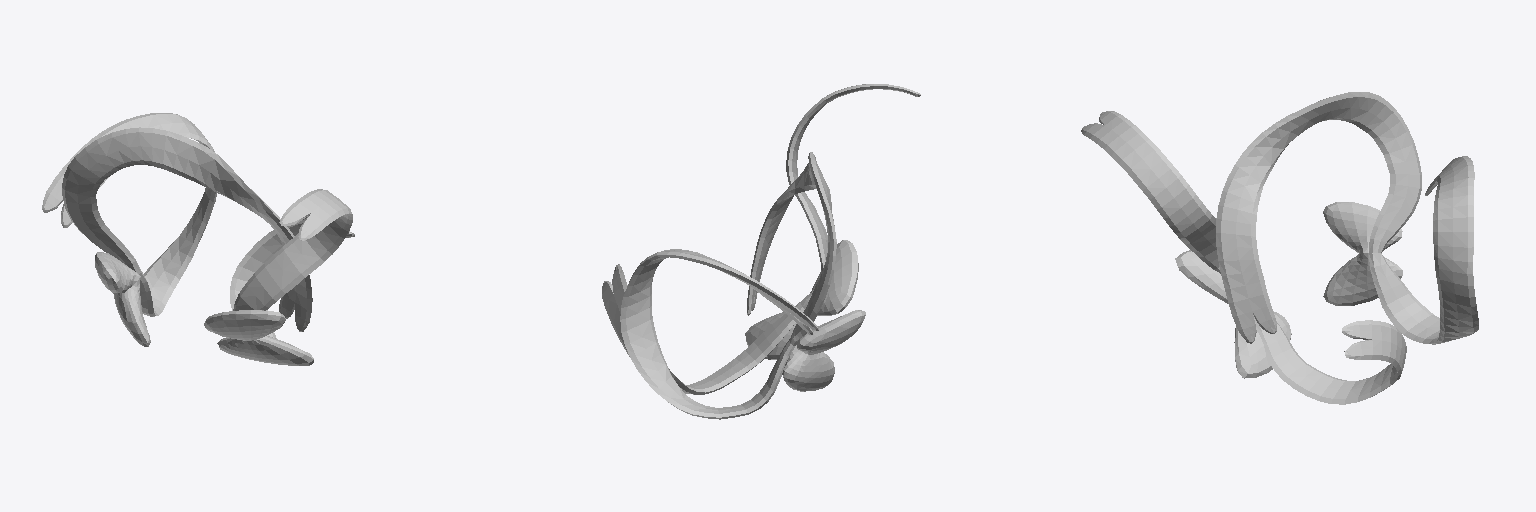
File: SylveonAdd.obj
The picture shows the model from 3 angles: view 1: azimuth 30°, elevation 25°; view 2: azimuth 150°, elevation 25°; view 3: azimuth 270°, elevation 25°; orthographic projection.
Visible parts, largest first — view 1: Sylveon002; view 2: Sylveon002; view 3: Sylveon002.
Boxes of the visible parts, <box> form: Sylveon002: <box>42,113,354,365</box>; Sylveon002: <box>602,84,920,419</box>; Sylveon002: <box>1081,92,1478,404</box>.
Bounding box in the file's own units: 39.21 × 35.39 × 51.11.